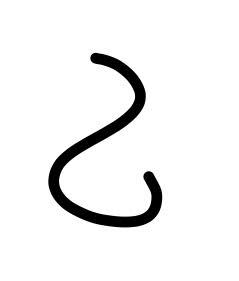a: (66, 37, 181, 137)
